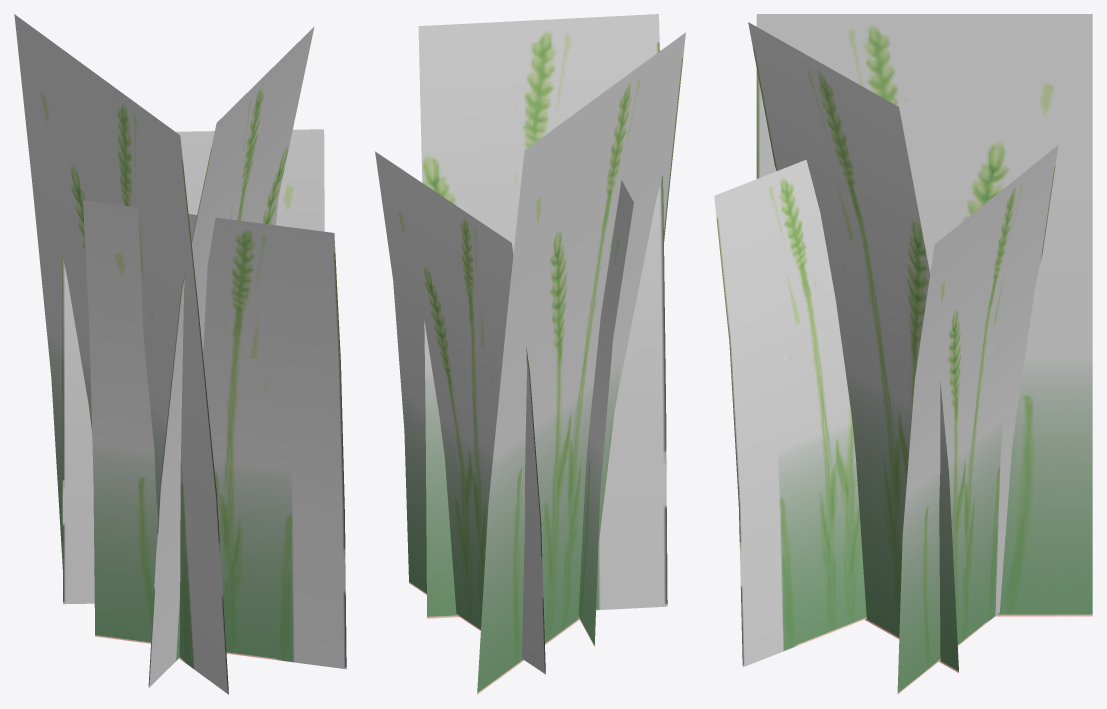
File: SM_ENV_grass_ancient_02.fbx
The picture shows the model from 3 angles, left to right: view 1: azimuth 30°, elevation 25°; view 2: azimuth 150°, elevation 25°; view 3: azimuth 270°, elevation 25°; orthographic projection. The views are drawn at different scales.
Visible parts, largest first — view 1: SM_ENV_grass_ancient_02_LOD0; view 2: SM_ENV_grass_ancient_02_LOD0; view 3: SM_ENV_grass_ancient_02_LOD0.
Part boxes in pixels (bbox=[...]): SM_ENV_grass_ancient_02_LOD0: bbox=[14, 14, 346, 694]; SM_ENV_grass_ancient_02_LOD0: bbox=[375, 14, 685, 694]; SM_ENV_grass_ancient_02_LOD0: bbox=[714, 14, 1092, 694].
Size of the model in its own units: 45.96 by 100 by 58.67.
